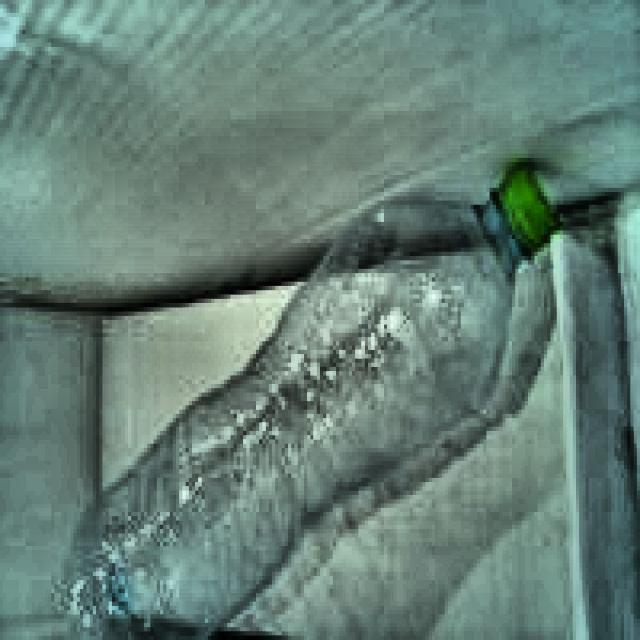plastic bottle: (77, 166, 563, 638)
